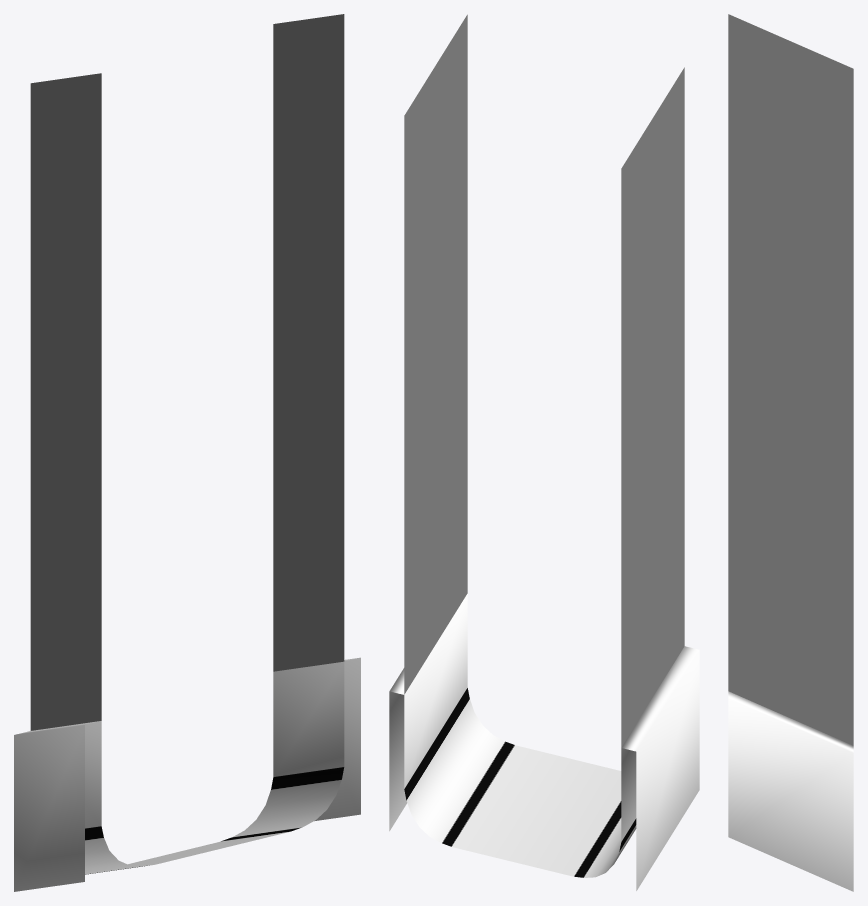
The model's file is TrackPiece_Straight_Slope_Steep_Mid.obj.
The picture shows the model from 3 angles, left to right: view 1: azimuth 30°, elevation 25°; view 2: azimuth 150°, elevation 25°; view 3: azimuth 270°, elevation 25°; orthographic projection. The views are drawn at different scales.
Parts seen in each view (by area): view 1: TrackPiece_Straight_Hill_Steep_Mid_Cube.006; view 2: TrackPiece_Straight_Hill_Steep_Mid_Cube.006; view 3: TrackPiece_Straight_Hill_Steep_Mid_Cube.006.
Part boxes in pixels (x1,y1,x2,y2): TrackPiece_Straight_Hill_Steep_Mid_Cube.006: [14, 14, 360, 891]; TrackPiece_Straight_Hill_Steep_Mid_Cube.006: [389, 14, 699, 890]; TrackPiece_Straight_Hill_Steep_Mid_Cube.006: [728, 14, 853, 891].
Bounding box in the file's own units: 7.36 × 22.08 × 3.27.
